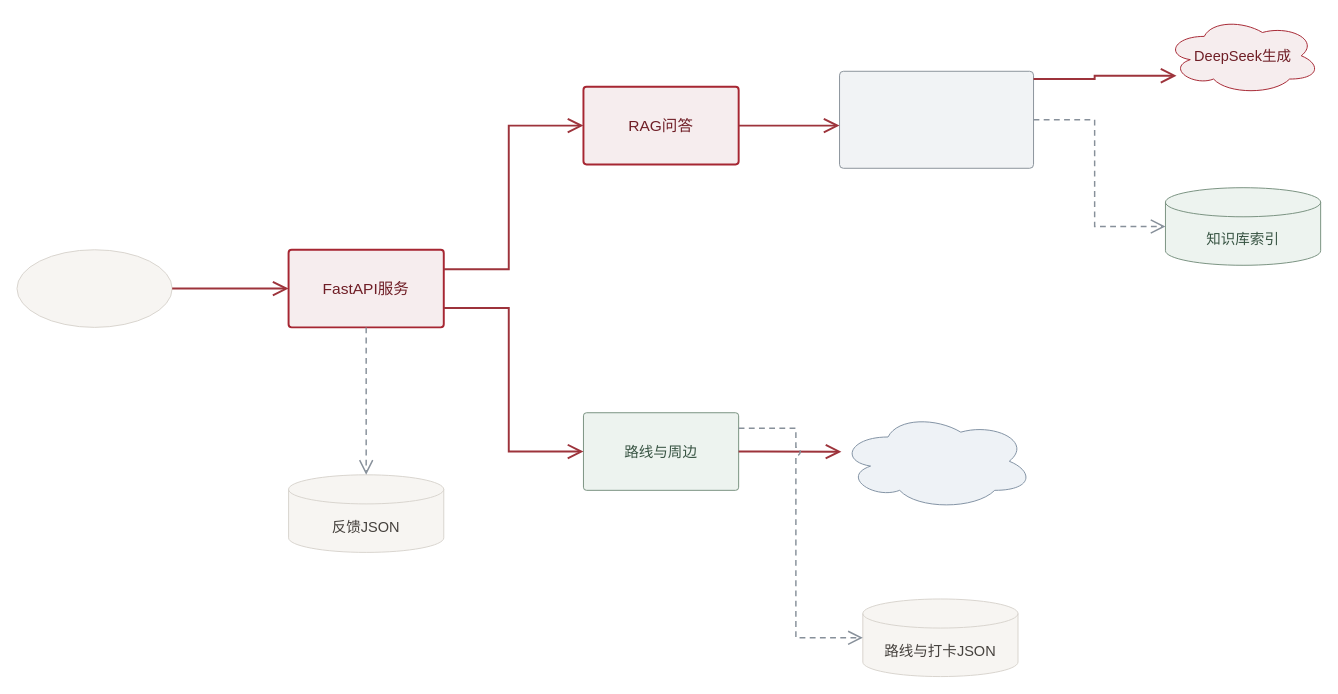
Some shapes in this 1338 by 694 pixel diagram are drawn without their labels. The box of each missing label's shape, as (x1, y1, x2, y2) in pixels:
浏览器前端: (16, 249, 172, 327)
混合检索与精排: (839, 70, 1034, 168)
高德地图API: (839, 412, 1034, 510)
